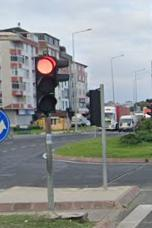redlight: (35, 53, 58, 116)
